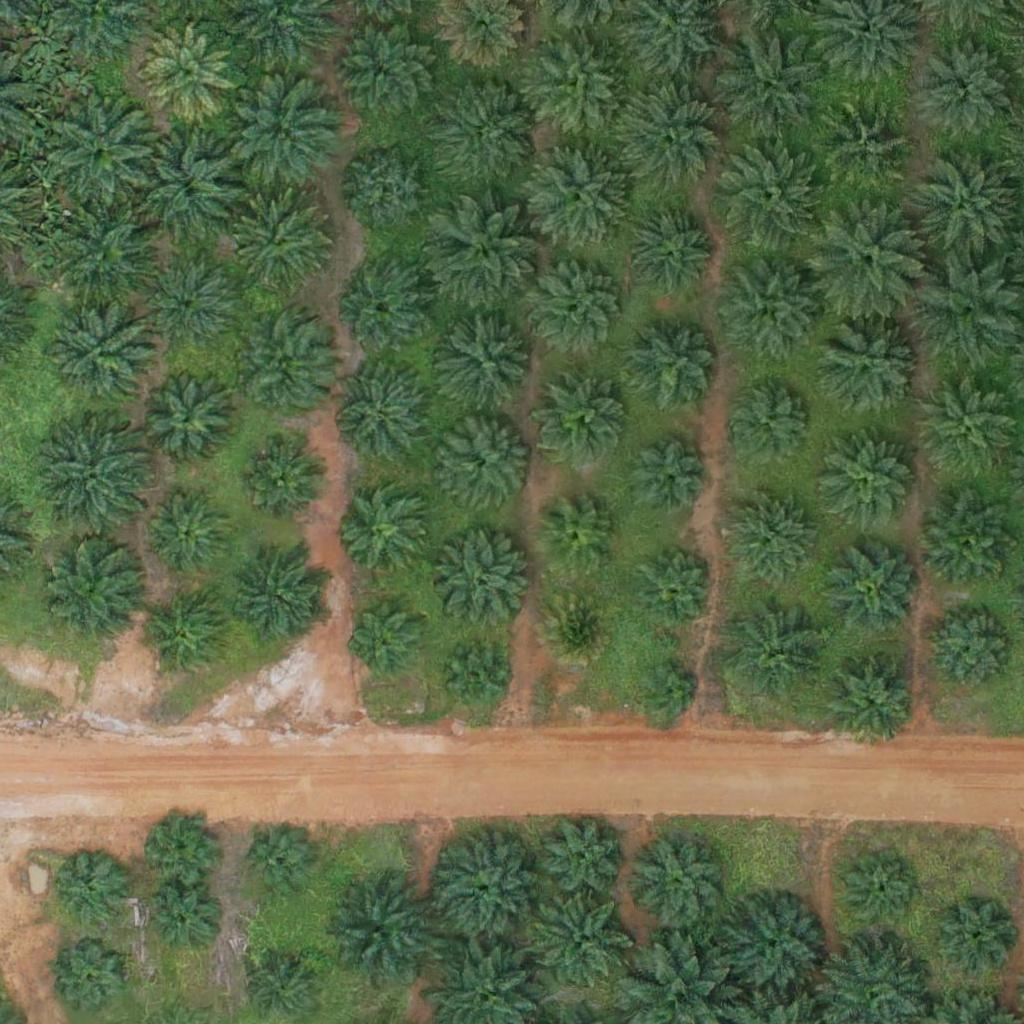Kelapa_Sawit: (316, 870, 441, 996), (224, 80, 337, 194), (908, 145, 1021, 258), (39, 420, 152, 533), (48, 95, 160, 209), (133, 129, 245, 243), (812, 201, 924, 314), (711, 140, 823, 253), (715, 27, 827, 140), (433, 203, 545, 316), (921, 374, 1021, 475), (920, 491, 1020, 592), (819, 316, 919, 417), (818, 432, 918, 533), (722, 260, 822, 361), (619, 82, 719, 183), (530, 33, 630, 134), (54, 208, 154, 309), (56, 311, 156, 412), (337, 19, 437, 120), (439, 79, 539, 180), (232, 547, 332, 648), (45, 533, 145, 634), (433, 834, 533, 935), (821, 649, 921, 749), (727, 599, 827, 699), (529, 145, 629, 245), (527, 256, 627, 356), (231, 195, 331, 295), (235, 327, 335, 427), (437, 413, 537, 513), (433, 531, 533, 631), (532, 891, 632, 991), (722, 897, 822, 997), (822, 102, 910, 191), (142, 589, 230, 678), (926, 605, 1014, 693), (540, 376, 628, 464), (140, 259, 228, 347), (142, 376, 230, 464), (443, 316, 531, 404), (244, 437, 332, 525), (145, 488, 233, 576), (831, 545, 918, 633), (725, 376, 812, 464), (727, 488, 814, 576), (624, 206, 711, 294), (630, 325, 717, 413), (923, 45, 1010, 133), (144, 25, 231, 113), (345, 147, 432, 235), (346, 265, 433, 353), (337, 371, 424, 459), (343, 490, 430, 578), (538, 812, 625, 900), (632, 838, 719, 926), (540, 501, 615, 577), (630, 440, 705, 516), (843, 855, 918, 931), (637, 549, 712, 625), (541, 590, 616, 666), (439, 639, 514, 715), (940, 899, 1015, 974), (349, 598, 424, 673), (55, 851, 130, 926), (55, 943, 130, 1018), (139, 809, 214, 884), (143, 887, 218, 962), (241, 824, 316, 899), (639, 662, 701, 725)
